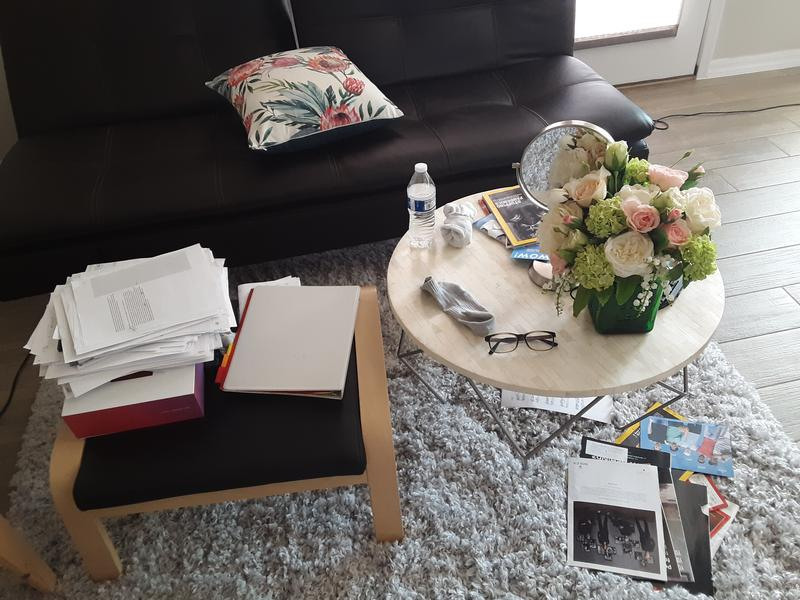glasses: (483, 331, 559, 356)
